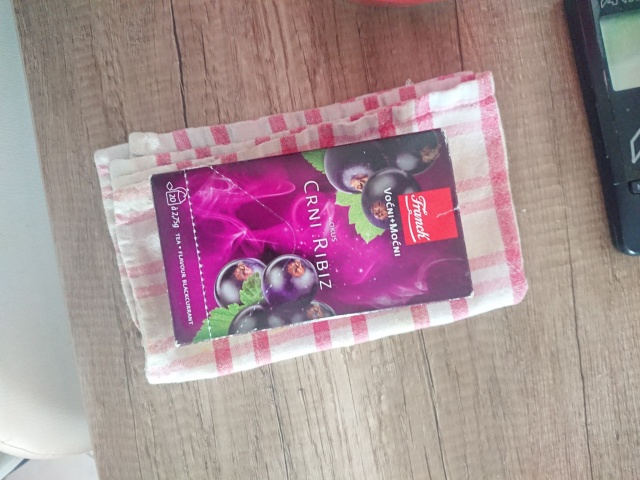Franck Black Currant Tea 60g: (145, 124, 478, 351)
